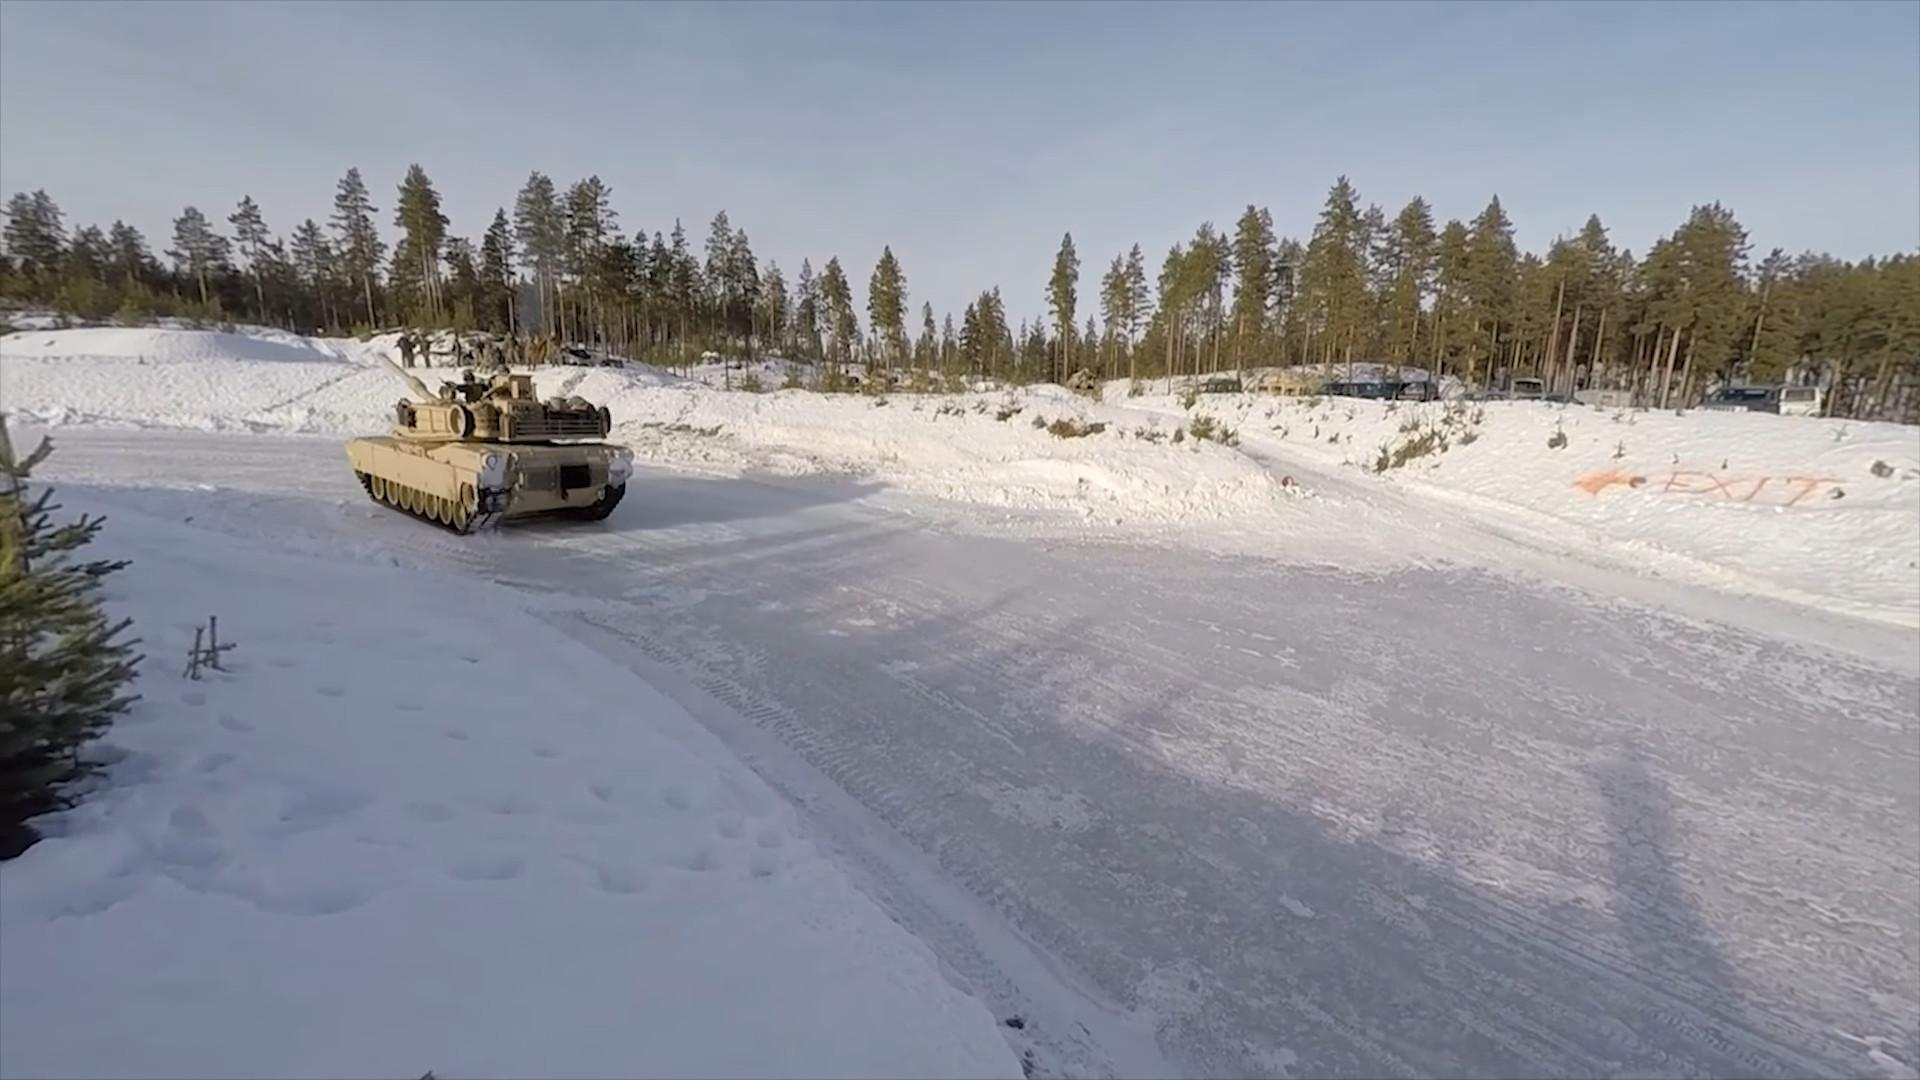tank: (349, 353, 636, 537)
